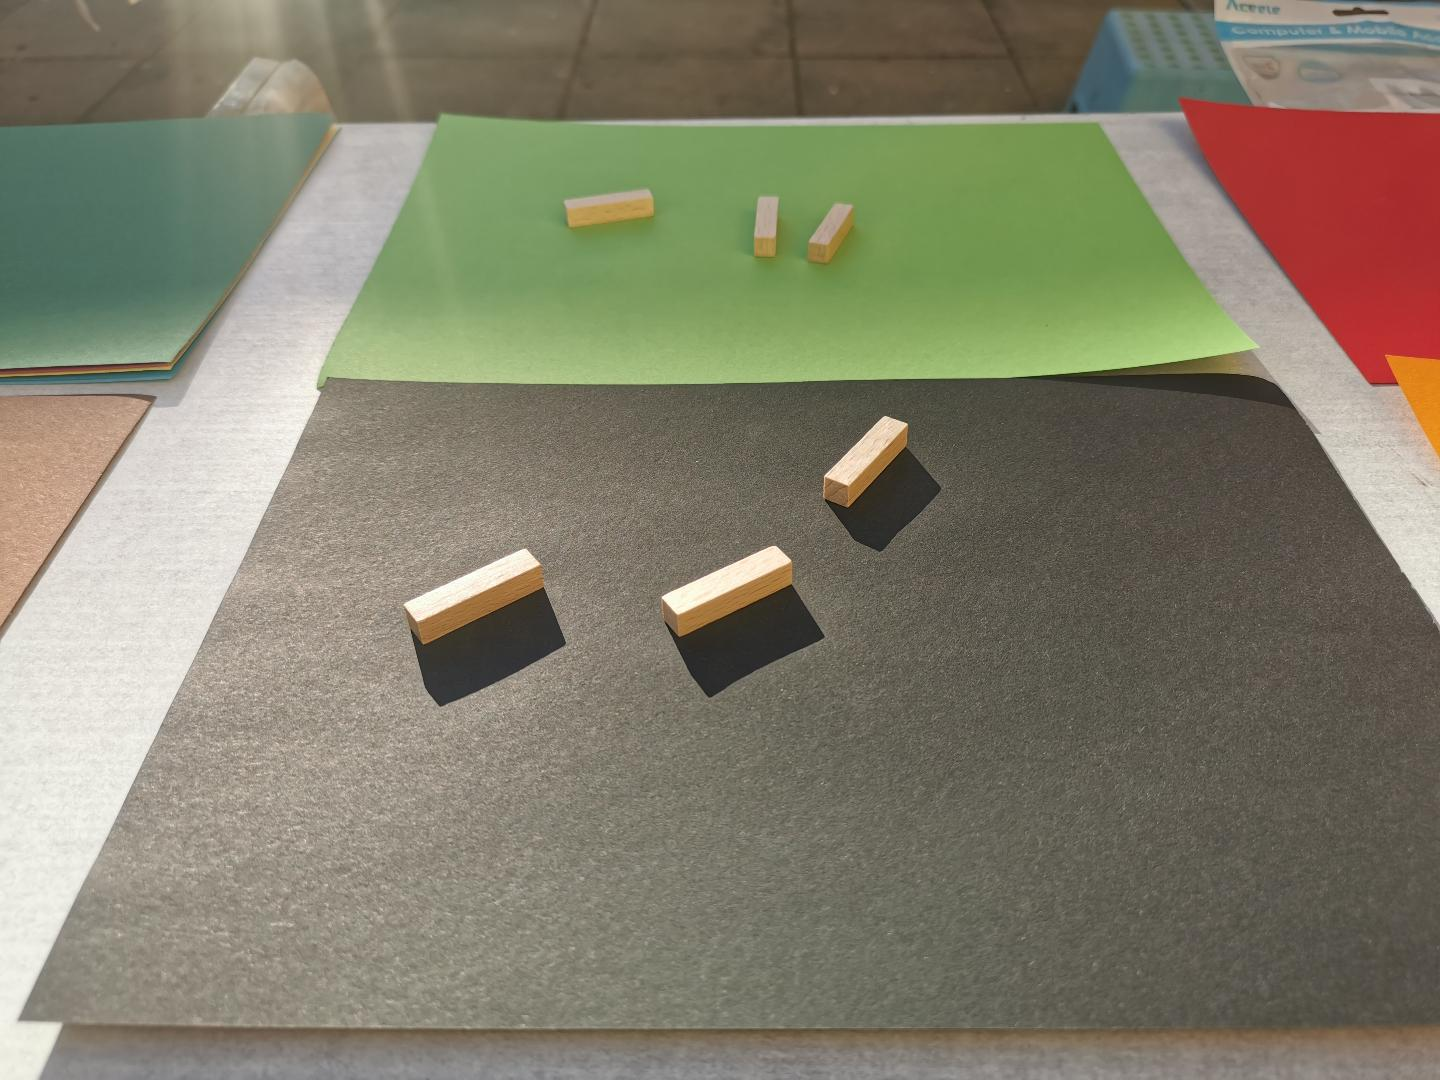jenga: (405, 548, 543, 644), (661, 546, 793, 636), (824, 416, 908, 506), (565, 188, 655, 228), (807, 202, 855, 264), (754, 197, 779, 256)
